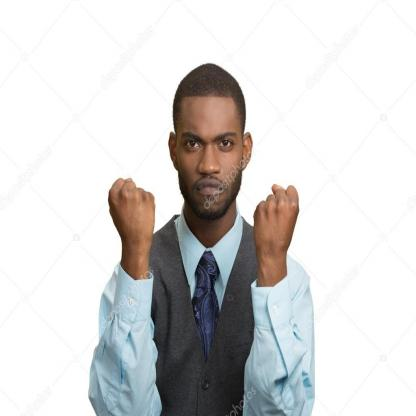fist: (251, 182, 302, 257), (105, 174, 161, 241)
